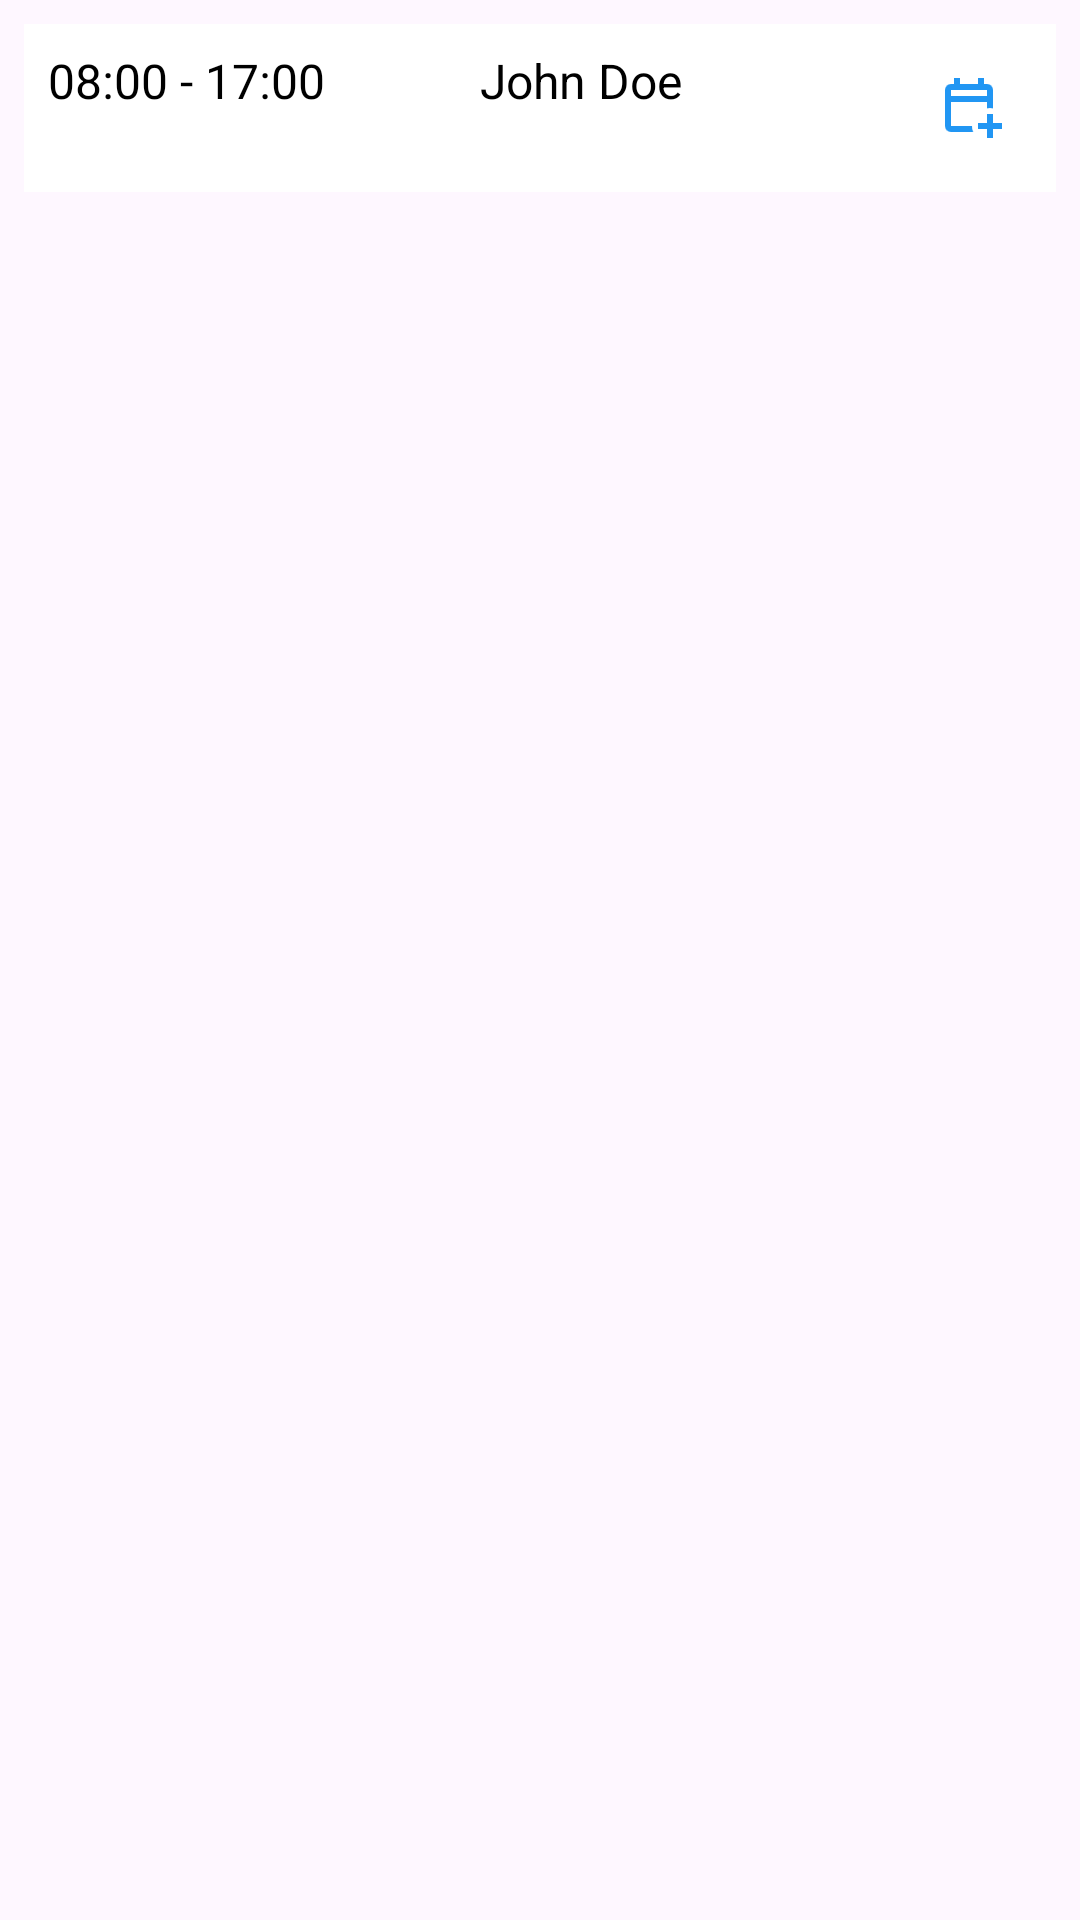

Screen size 1080*1920. Icon name, then its box in pixels as (x1, y1, x2, y2):
Add to Google Calendar: (945, 78, 1002, 138)
